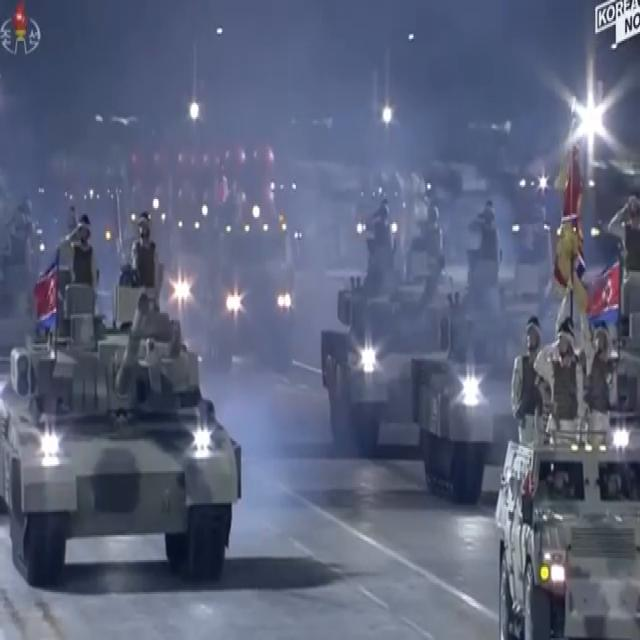north tank: (7, 200, 261, 586), (306, 206, 456, 467), (496, 370, 640, 638), (417, 266, 569, 504)
